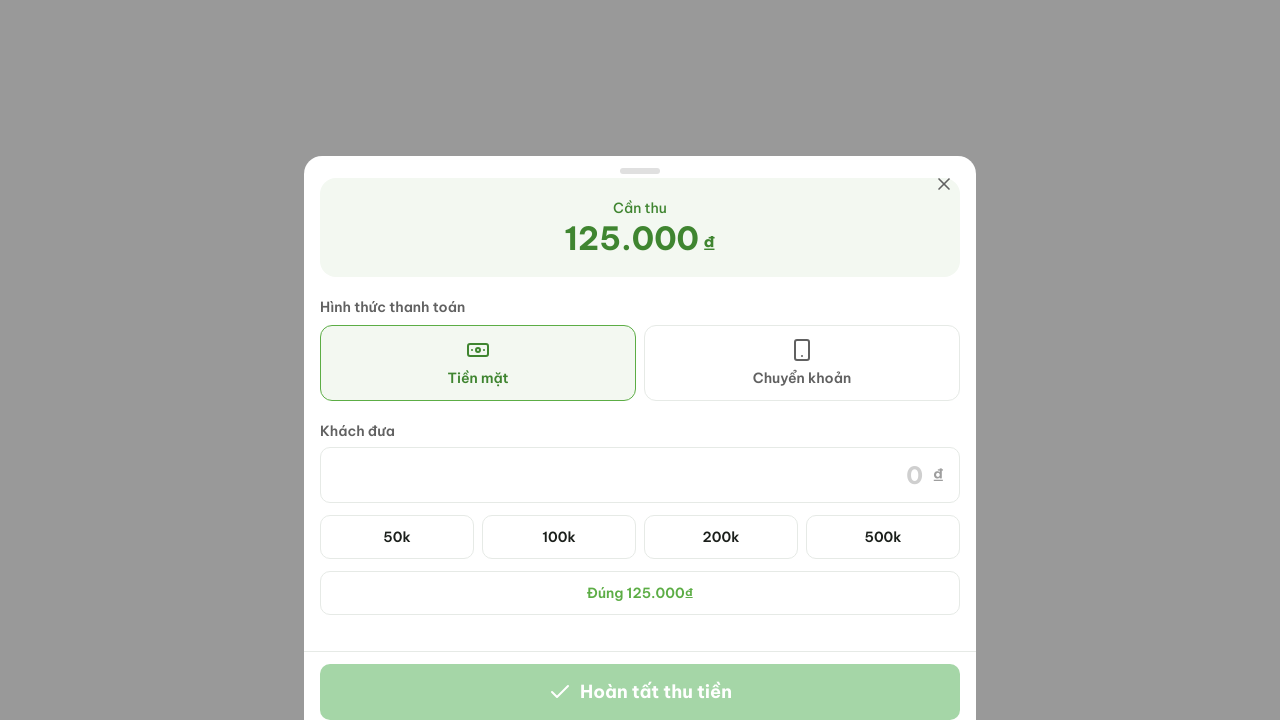
PaymentSheet transfer › disables transfer confirmation when bank is missing
Click the button "Chuyển khoản".
click(802, 363)  # box x1=644 y1=325 x2=960 y2=401
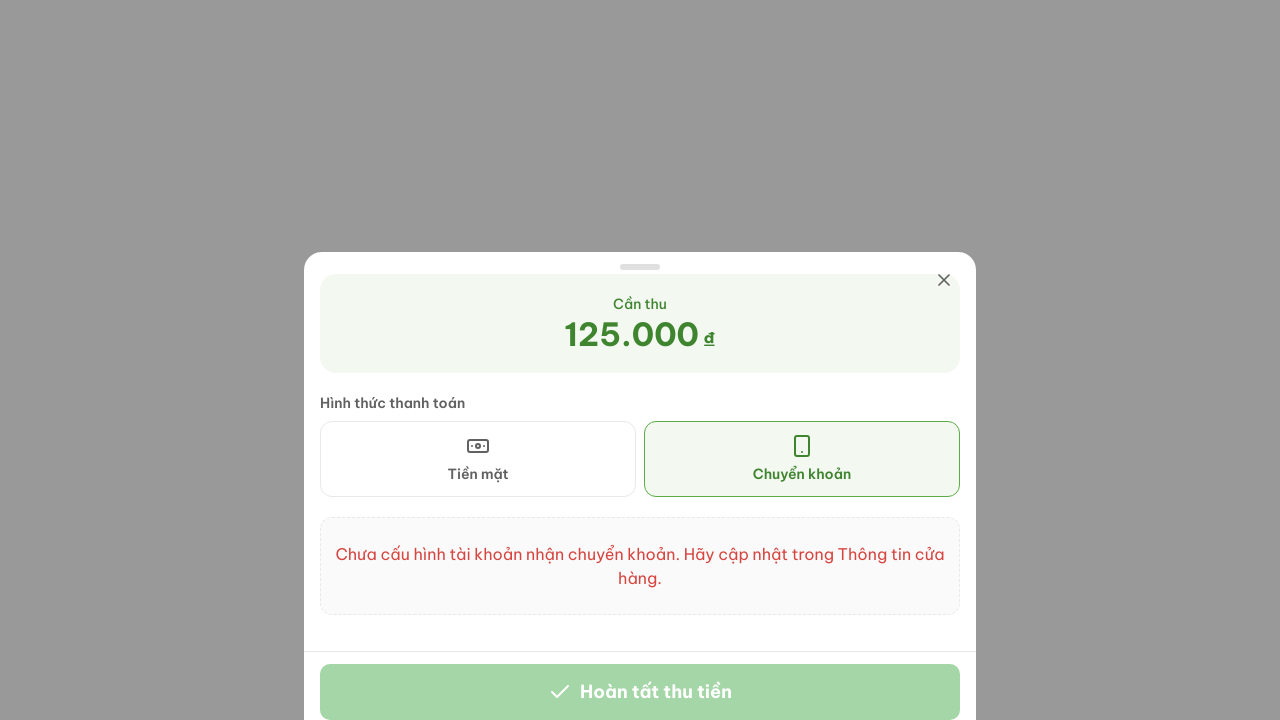
Expected: the button "Hoàn tất thu tiền" is disabled, x1=320 y1=664 x2=960 y2=719
Expected: the text "Chưa cấu hình tài khoản" is shown, x1=335 y1=544 x2=945 y2=588
